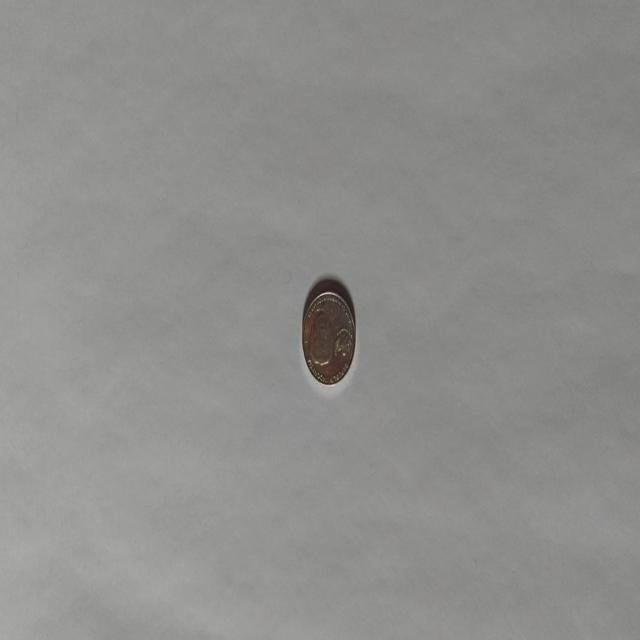seratus rupiah: (300, 288, 356, 386)
